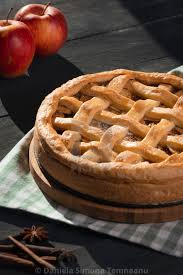apple: (20, 4, 74, 58), (2, 16, 36, 77)
